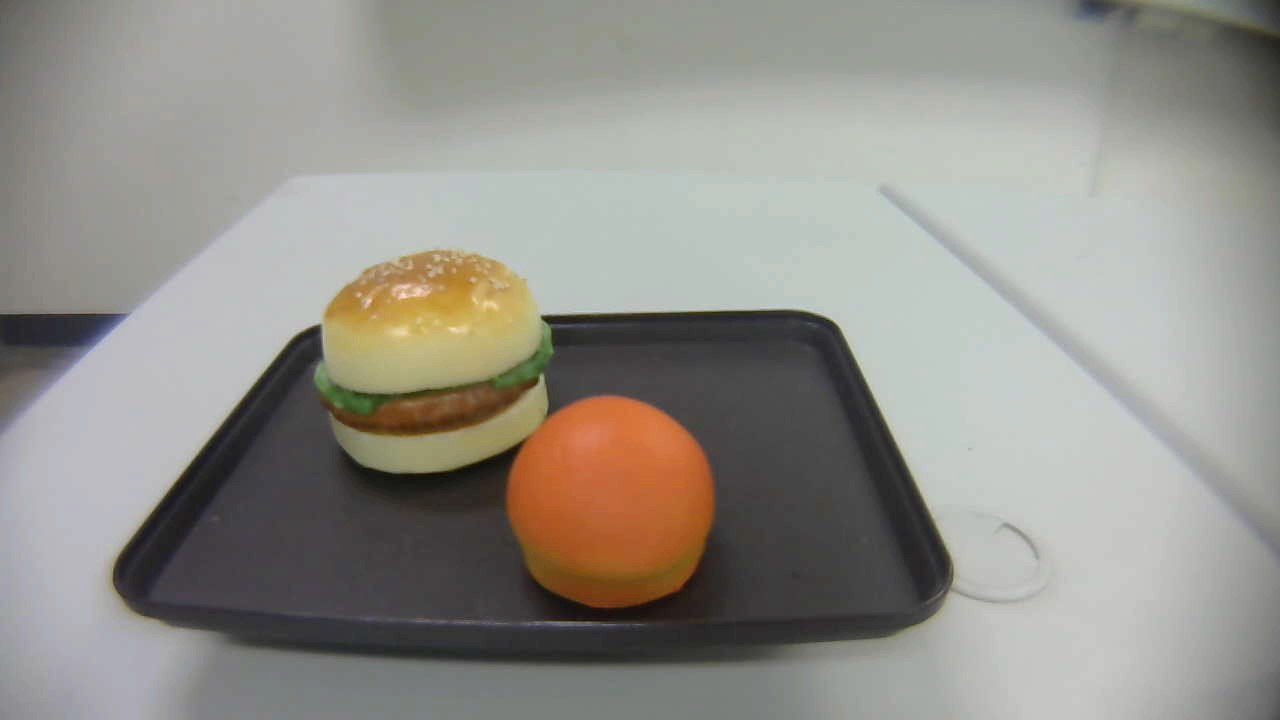bun: (505, 394, 714, 608)
hamburger: (315, 249, 551, 474)
